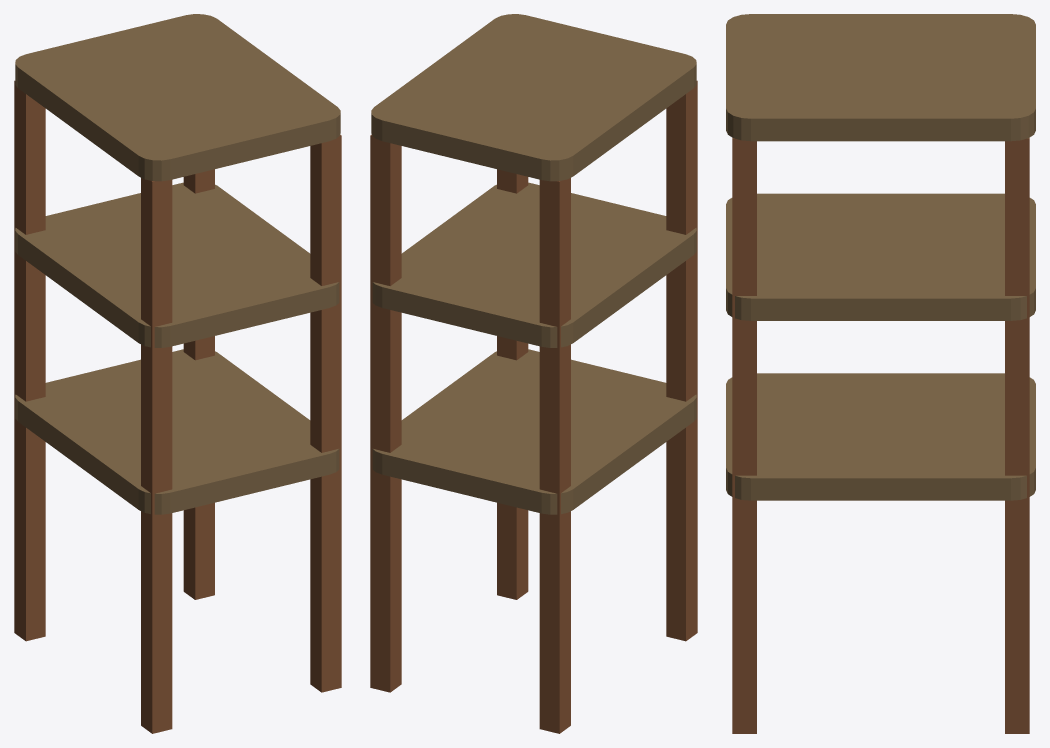
File: stacking_stools.glb
The picture shows the model from 3 angles, left to right: view 1: azimuth 30°, elevation 25°; view 2: azimuth 150°, elevation 25°; view 3: azimuth 270°, elevation 25°; orthographic projection. The views are drawn at different scales.
Parts seen in each view (by area): view 1: stacking_stools_Body, stacking_stools_C; view 2: stacking_stools_Body, stacking_stools_C; view 3: stacking_stools_Body, stacking_stools_C.
Boxes of the visible parts, box(x1,y1,x2,y2) form: stacking_stools_Body: box(14, 182, 341, 733); stacking_stools_C: box(14, 14, 341, 399); stacking_stools_Body: box(370, 182, 697, 733); stacking_stools_C: box(370, 14, 697, 399); stacking_stools_Body: box(726, 193, 1035, 733); stacking_stools_C: box(726, 14, 1035, 374).
Bounding box in the file's own units: 0.4 × 1.1 × 0.5.
